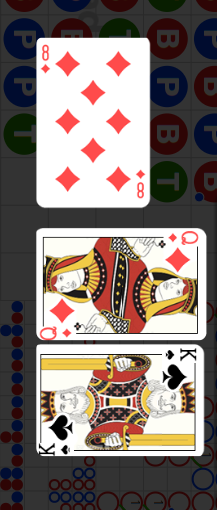6D: (41, 43, 53, 75)
8D: (135, 167, 147, 199)
QD: (36, 284, 83, 328), (157, 217, 203, 261)
